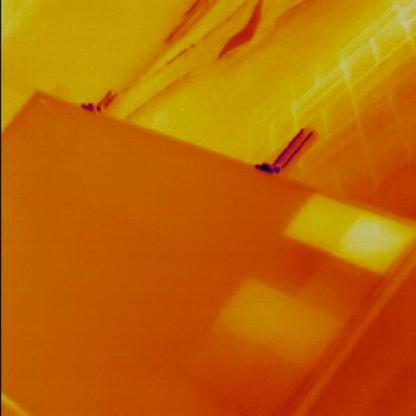anomaly: (221, 279, 349, 391), (282, 190, 416, 275)
